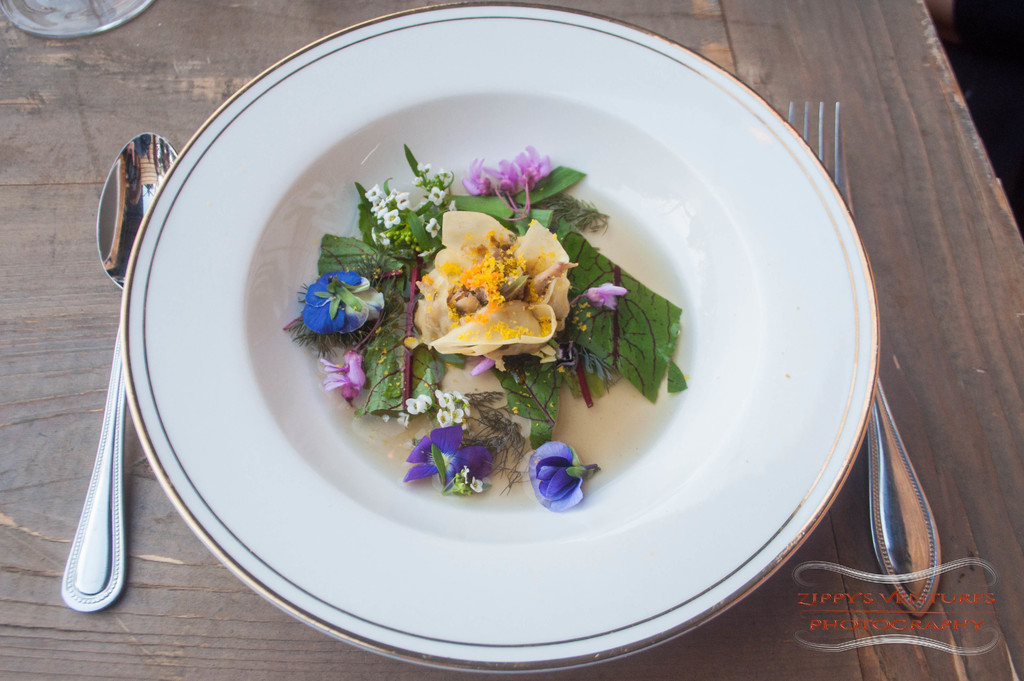plate: (149, 0, 903, 662)
